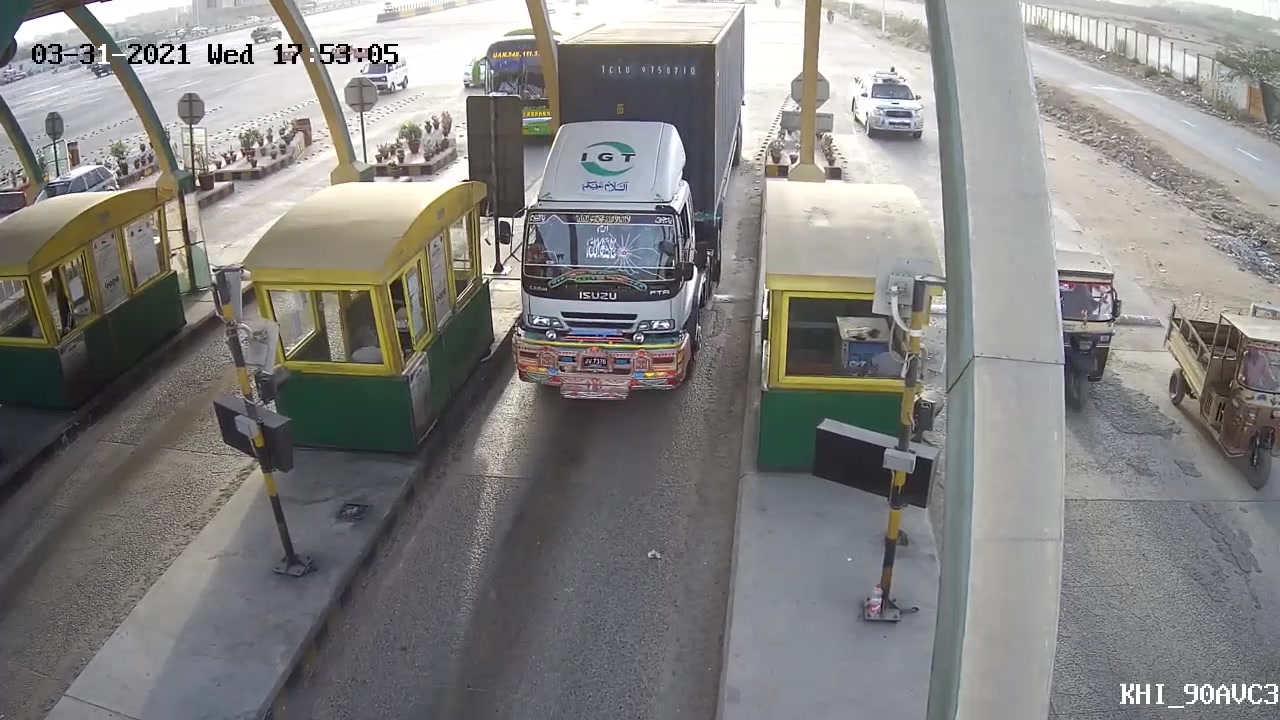F6: (508, 1, 759, 408)
